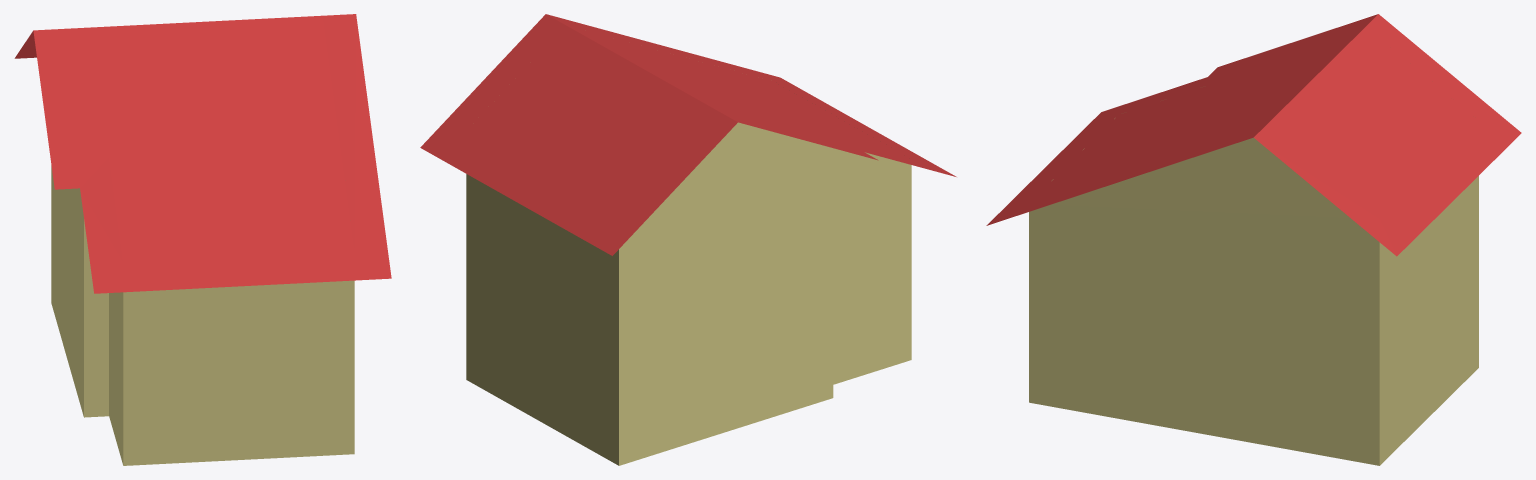
3 renders of one model, left to right at view 1: azimuth 30°, elevation 25°; view 2: azimuth 150°, elevation 25°; view 3: azimuth 270°, elevation 25°, orthographic. The views are drawn at different scales.
Size of the model in its own units: 10.22 by 12.3 by 8.12.
